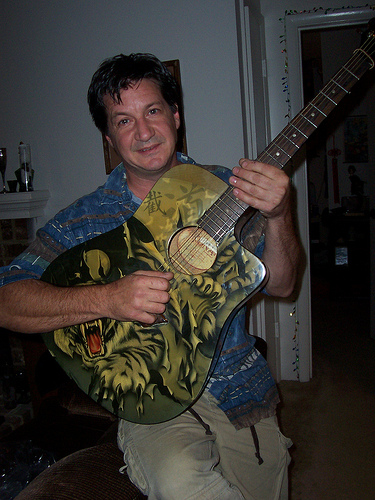guitar: (38, 33, 375, 423)
